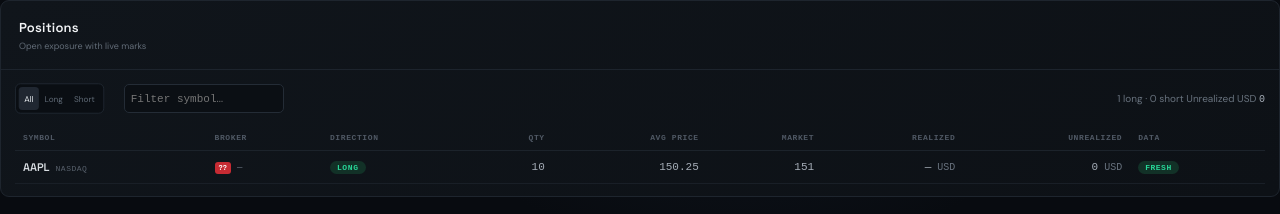
Test: PositionsTable (M4) › shows an explicit no-match state when filters exclude everything
Type "ZZZ" into the field named "Filter positions by symbol".
click(204, 98); type("ZZZ")  # box [124,84,284,113]
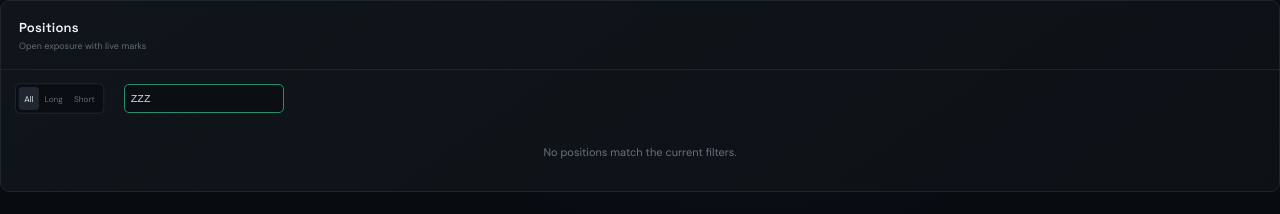
Now the text "No positions match the current filters." is shown, box [543,145,737,159]
